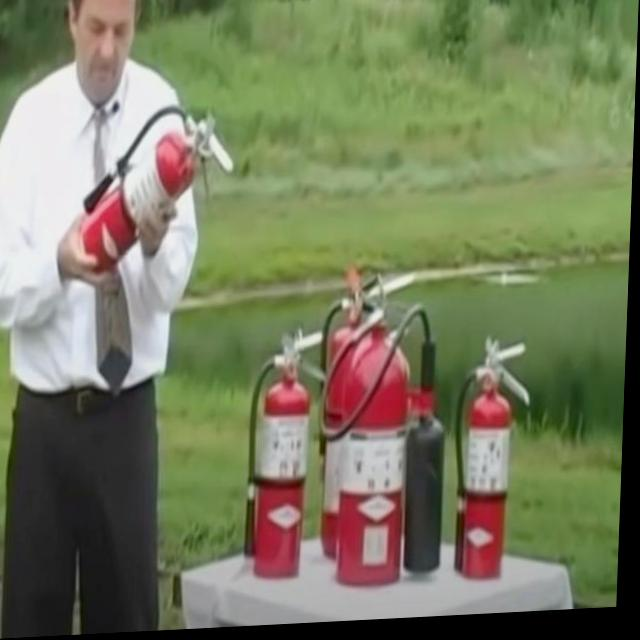FireExtinguisher: (315, 268, 457, 600), (80, 98, 241, 280), (243, 324, 337, 587), (453, 332, 538, 592)
